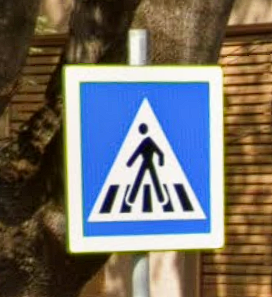trecere_pietoni: (59, 61, 227, 250)
